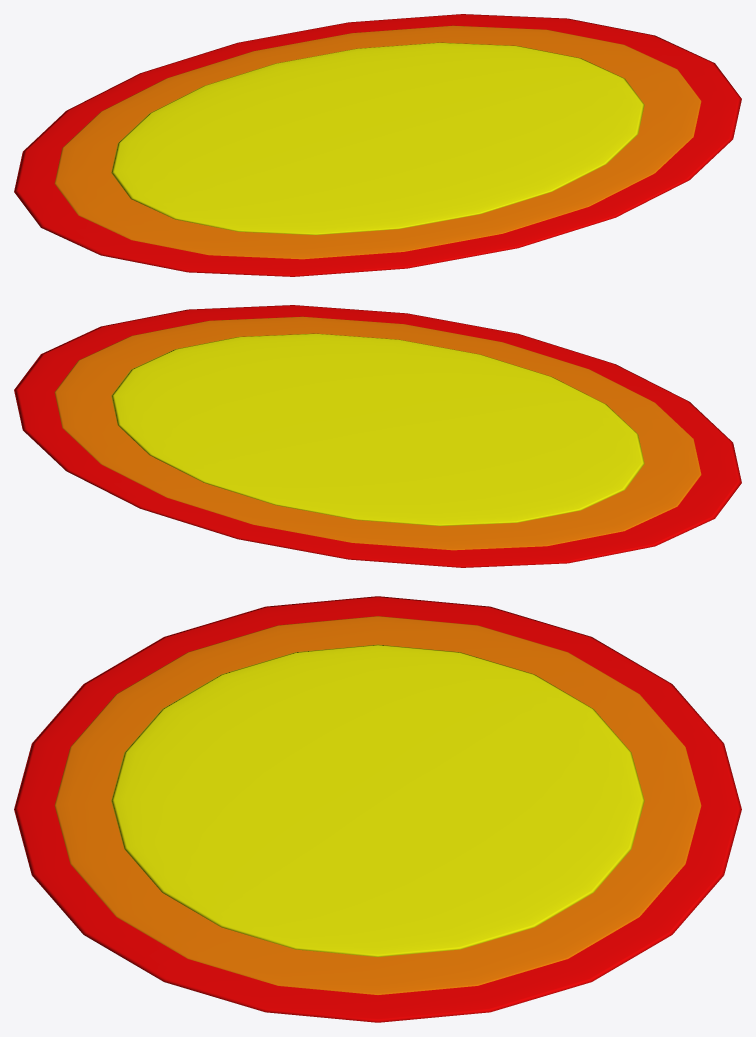
File: rug.fbx
3 views of the same model, one above another, from view 1: azimuth 30°, elevation 25°; view 2: azimuth 150°, elevation 25°; view 3: azimuth 270°, elevation 25° (orthographic). The views are drawn at different scales.
Parts seen in each view (by area): view 1: pSphere2; view 2: pSphere2; view 3: pSphere2.
Boxes of the visible parts, <box> form: pSphere2: <box>14,14,741,276</box>; pSphere2: <box>14,305,741,567</box>; pSphere2: <box>14,596,741,1022</box>.
Size of the model in its own units: 15.38 by 0.3909 by 11.09.
